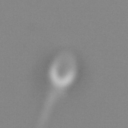normal: (29, 88, 68, 128)
